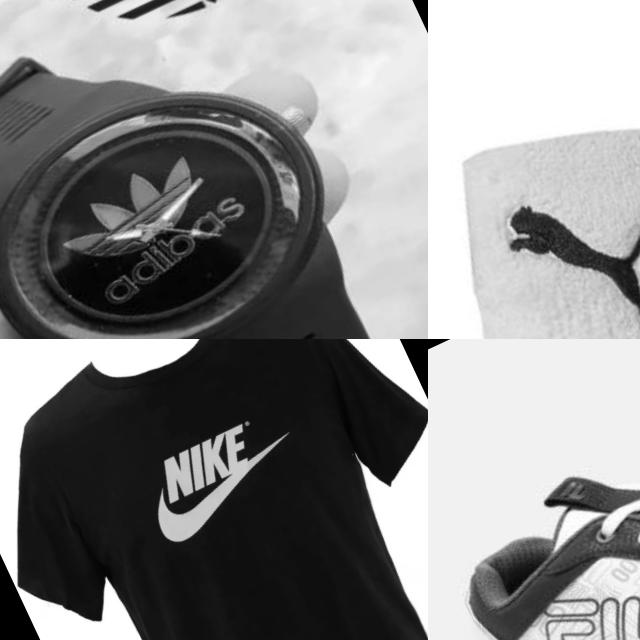ADIDAS_fake: (30, 112, 279, 326)
FILA_original: (512, 521, 640, 640)
NIKE_original: (109, 386, 332, 573)
PUMA_original: (481, 132, 640, 339)
